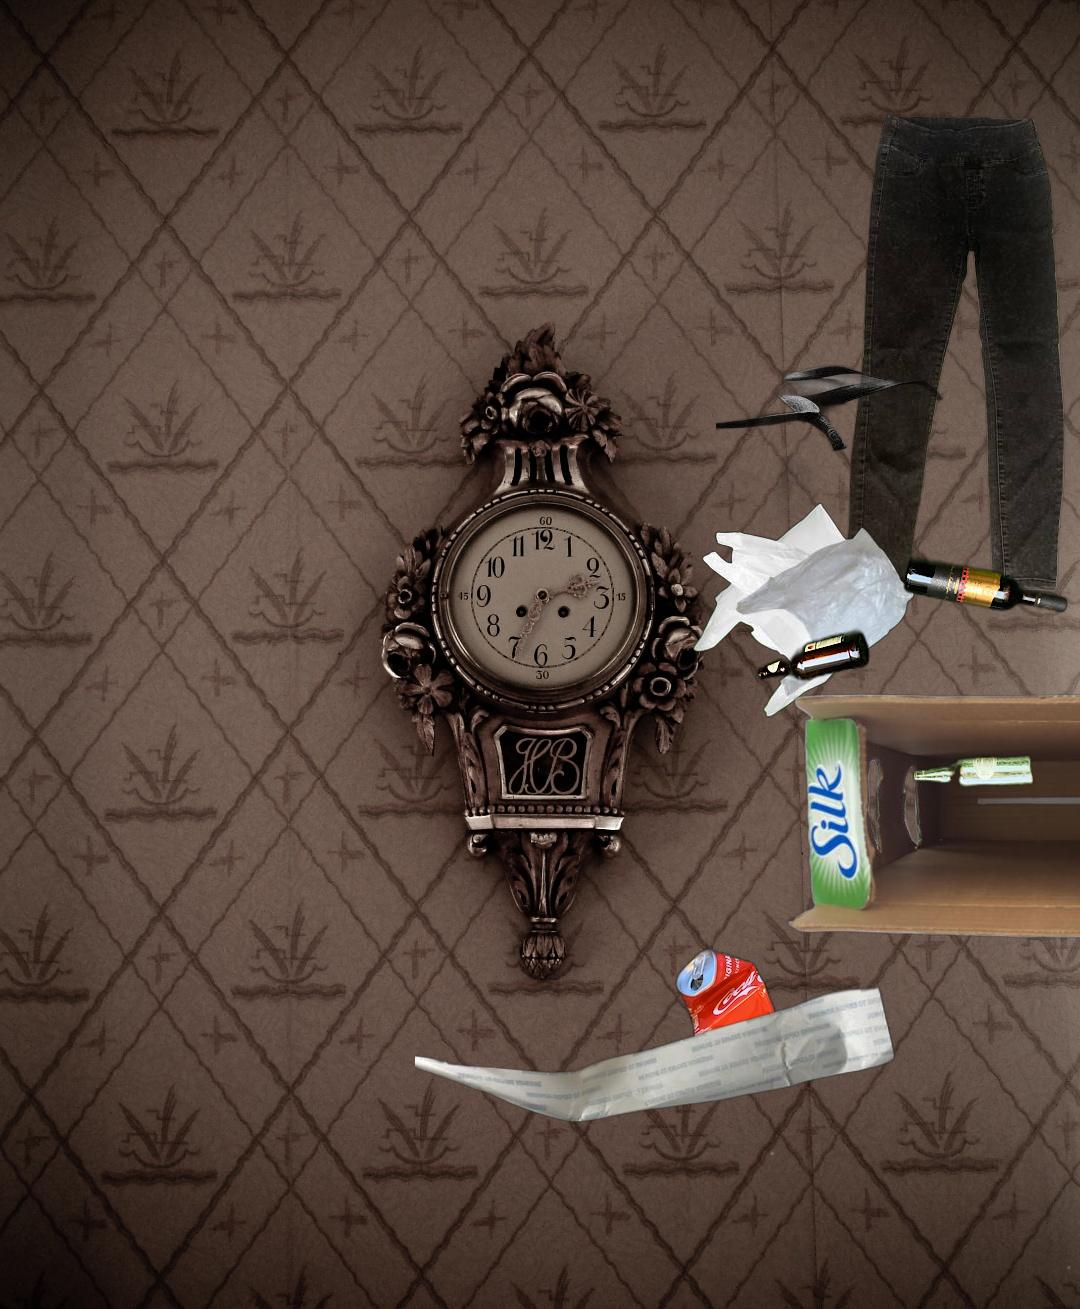clothes: (773, 109, 1068, 598)
glass: (651, 550, 1072, 900)
metal-cans: (672, 943, 780, 1069)
paper: (415, 978, 908, 1125)
plastic-bag: (691, 501, 917, 720)
shoes: (716, 332, 991, 485)
trashbox-cardboard: (784, 690, 1080, 946)
